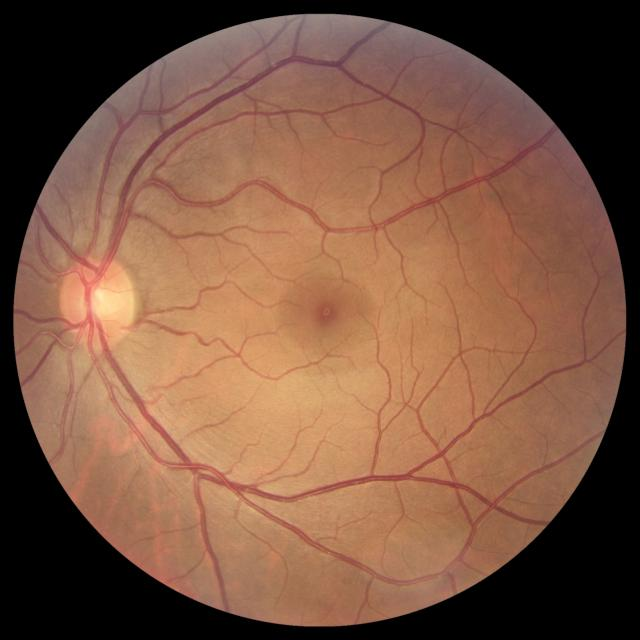OC: (82, 284, 117, 322)
OD: (60, 257, 136, 349)
